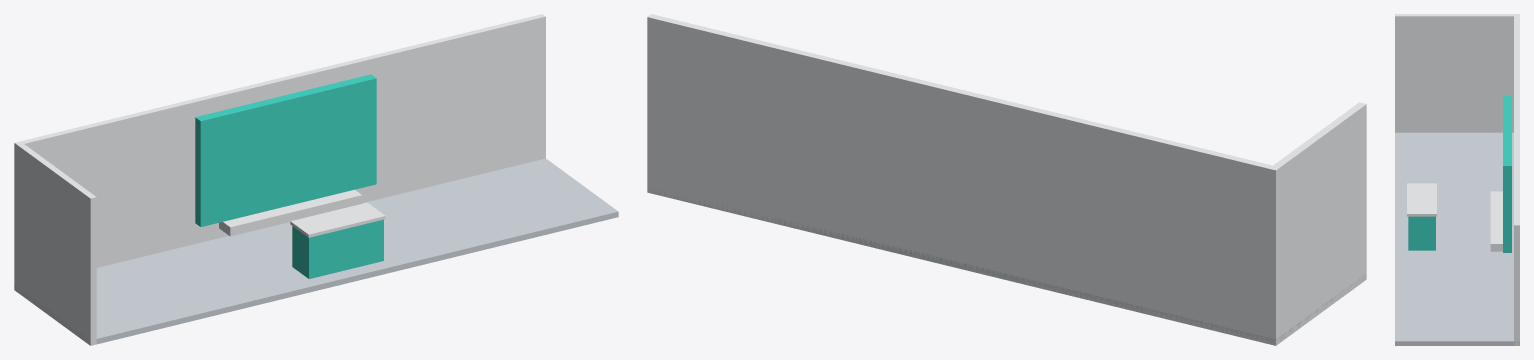
The picture shows the model from 3 angles, left to right: view 1: azimuth 30°, elevation 25°; view 2: azimuth 150°, elevation 25°; view 3: azimuth 270°, elevation 25°; orthographic projection. The views are drawn at different scales.
Parts seen in each view (by area): view 1: Exhibition Booth Concept; view 2: Exhibition Booth Concept; view 3: Exhibition Booth Concept.
Part boxes in pixels (left/top/right/bottom): Exhibition Booth Concept: left=14, top=14, right=618, bottom=345; Exhibition Booth Concept: left=647, top=14, right=1366, bottom=345; Exhibition Booth Concept: left=1395, top=14, right=1519, bottom=345.
Bounding box in the file's own units: 12 × 3.2 × 3.
